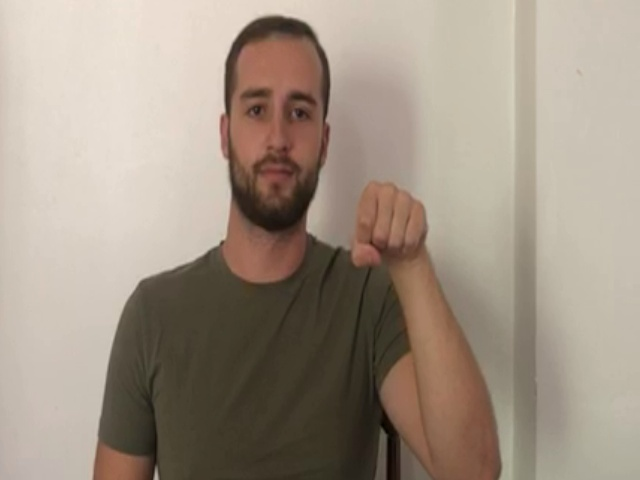Da: (348, 178, 430, 271)
